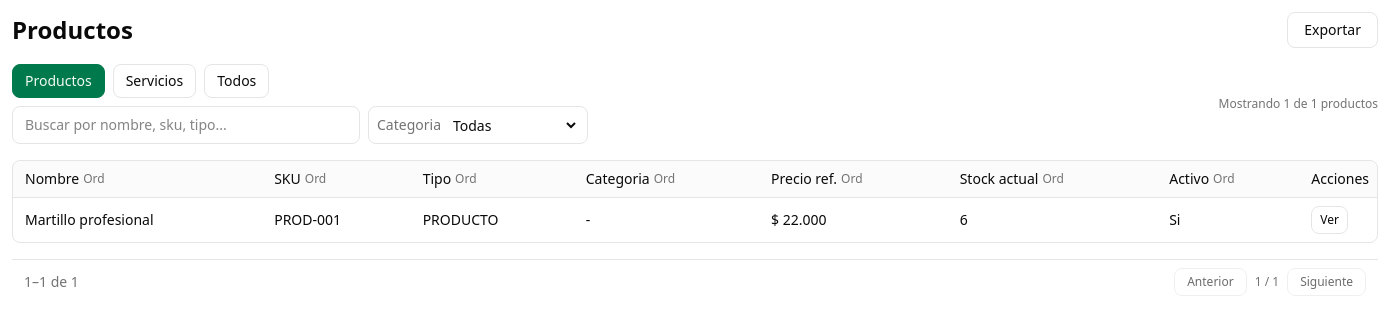
productos/ProductosListPage › permite cambiar a servicios desde el filtro por tipo
Expected: the text "Martillo profesional" is shown, x1=13 y1=198 x2=262 y2=242
Expected: the text "Servicio de poda" is not shown
Click the button "Servicios". click: (154, 81)
box: x1=113 y1=64 x2=196 y2=98
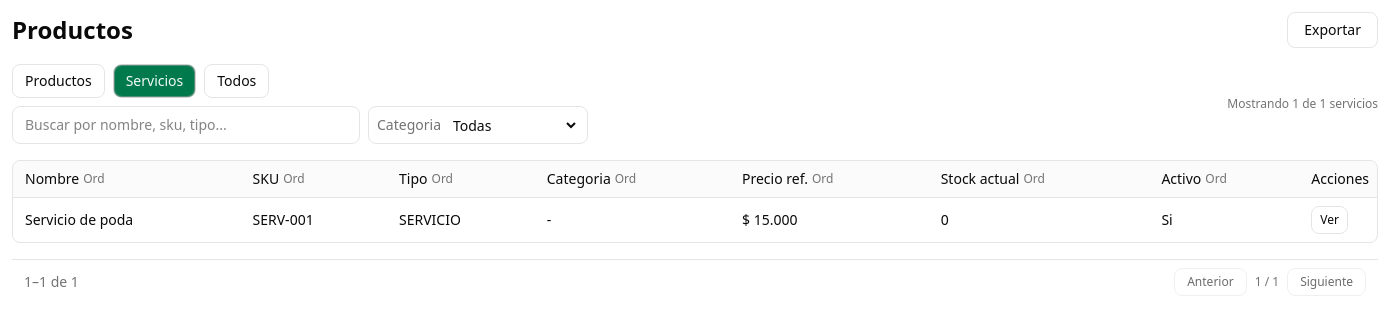
Expected: the text "Servicio de poda" is shown, x1=13 y1=198 x2=240 y2=242
Expected: the text "Martillo profesional" is gone
